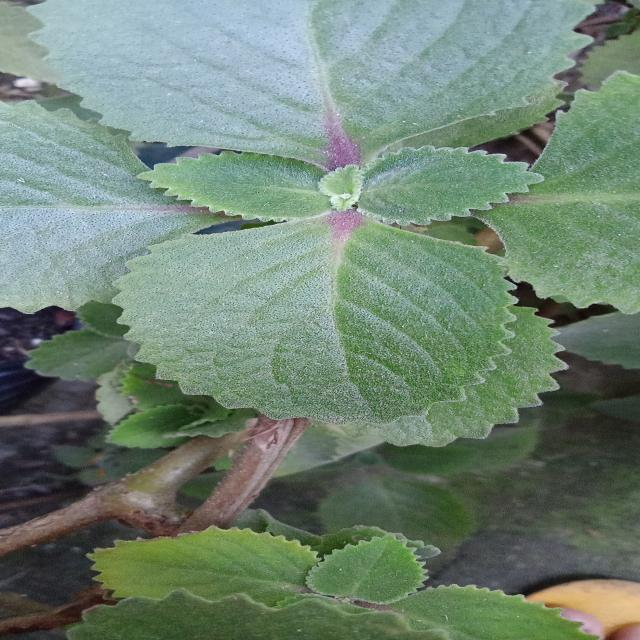Oregano: (97, 203, 568, 432)
